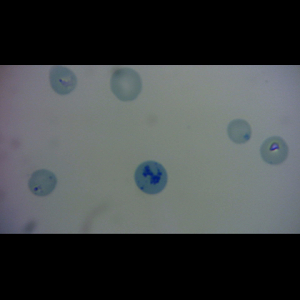aggregate reticulocyte: (133, 159, 170, 196)
erythrocyte: (109, 67, 144, 103), (44, 65, 79, 96), (259, 134, 291, 167), (26, 168, 59, 197), (226, 117, 254, 146)
